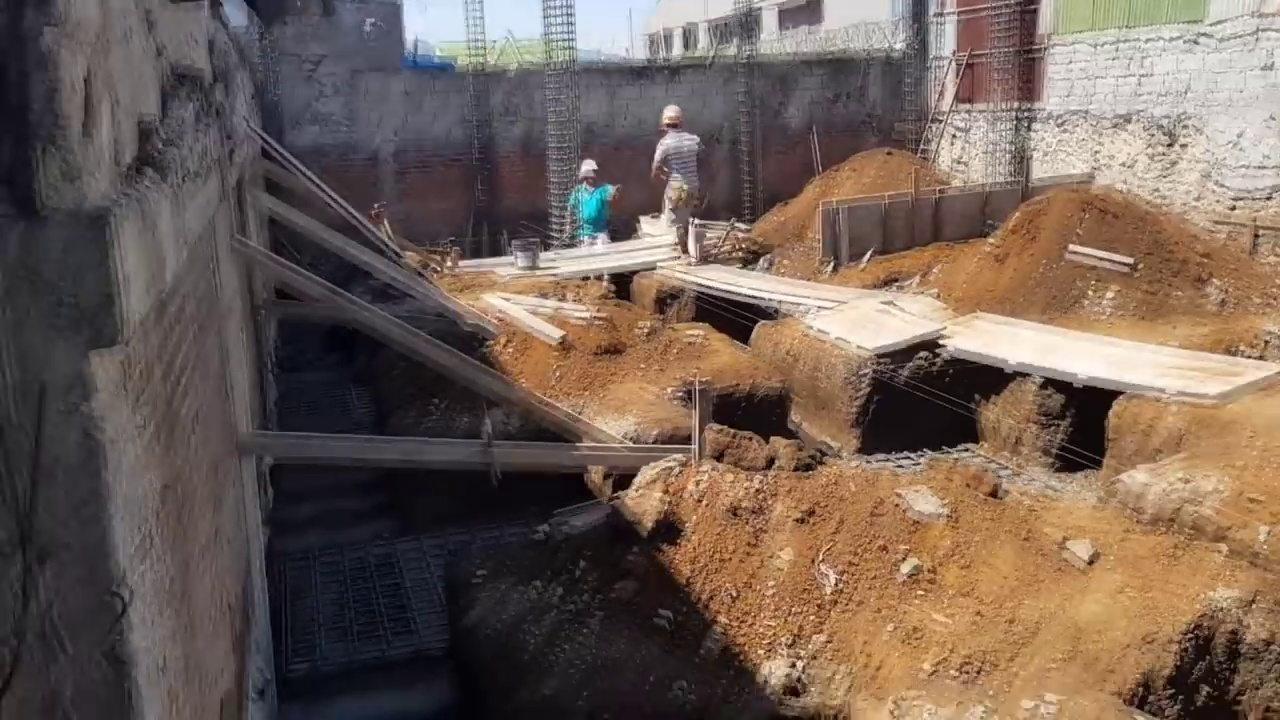helmet: (659, 103, 685, 122), (576, 159, 598, 176)
helmet-on: (656, 103, 685, 135), (577, 160, 597, 186)
person: (646, 103, 707, 269), (562, 159, 619, 242)
